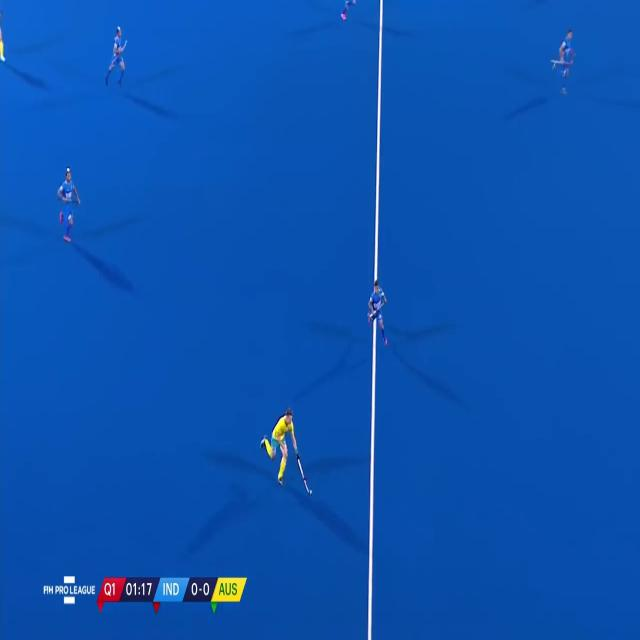ball: (306, 482, 315, 499)
